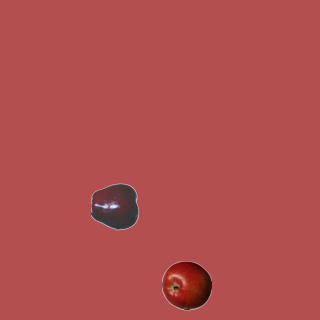Apple Braeburn: (161, 260, 211, 310)
Apple Red Delicious: (90, 181, 140, 231)
